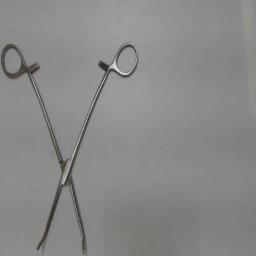Lahey Forceps: (0, 39, 144, 255)
